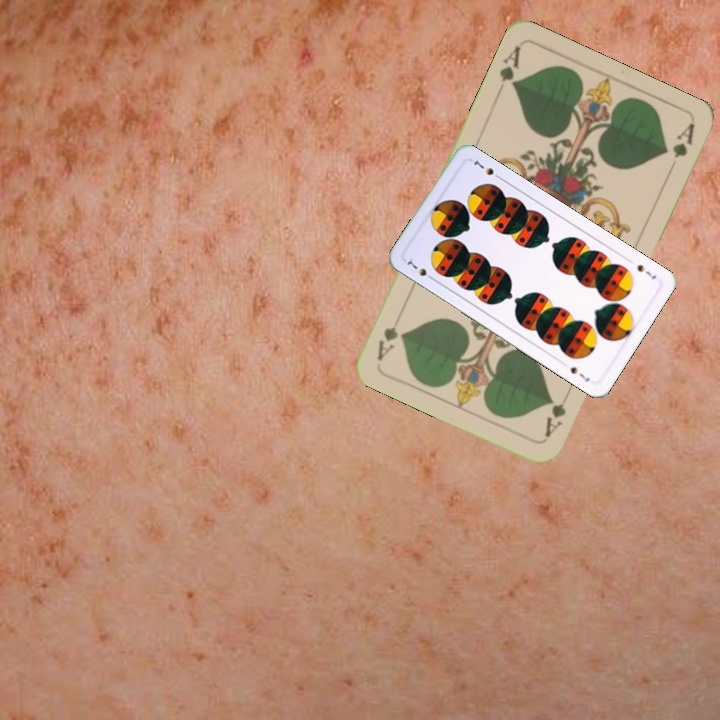GA: (492, 42, 523, 99), (540, 396, 569, 441)
S7: (403, 254, 437, 283), (633, 260, 659, 282)
